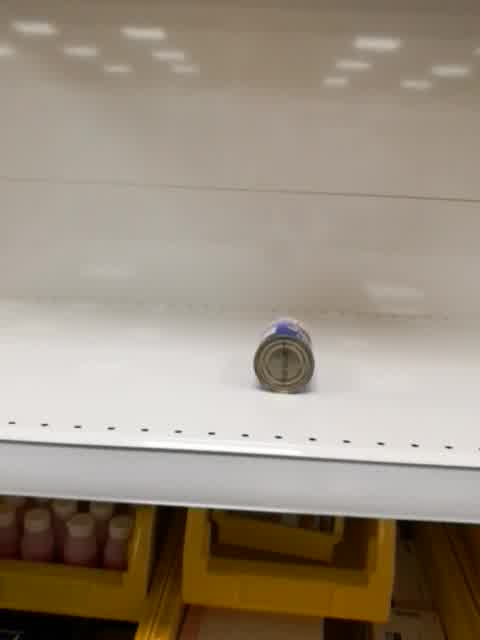sardine: (252, 315, 315, 395)
